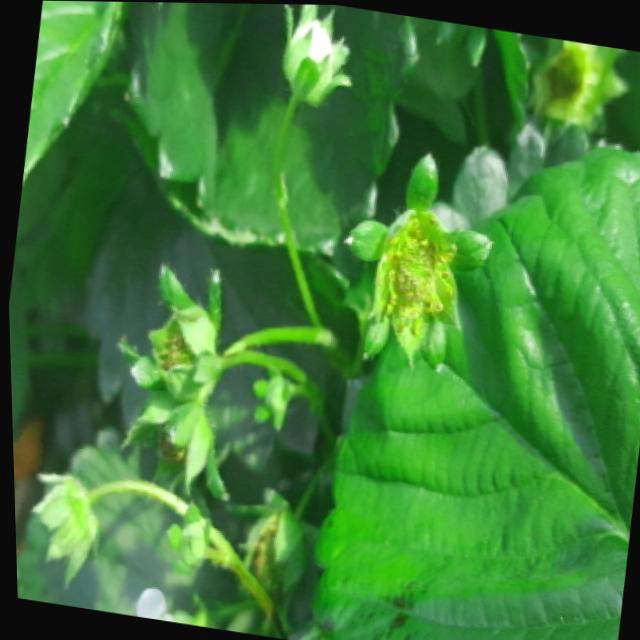Blossom Blight: (366, 207, 461, 347)
